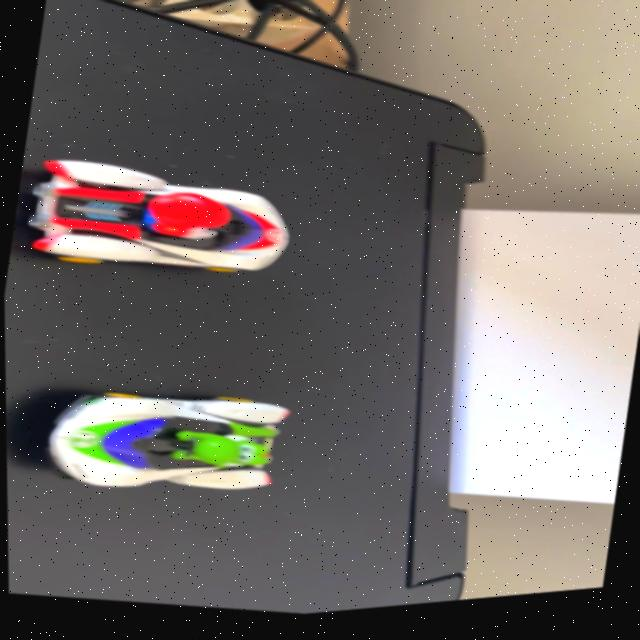mario: (7, 133, 321, 318)
yoshi: (18, 350, 314, 535)
